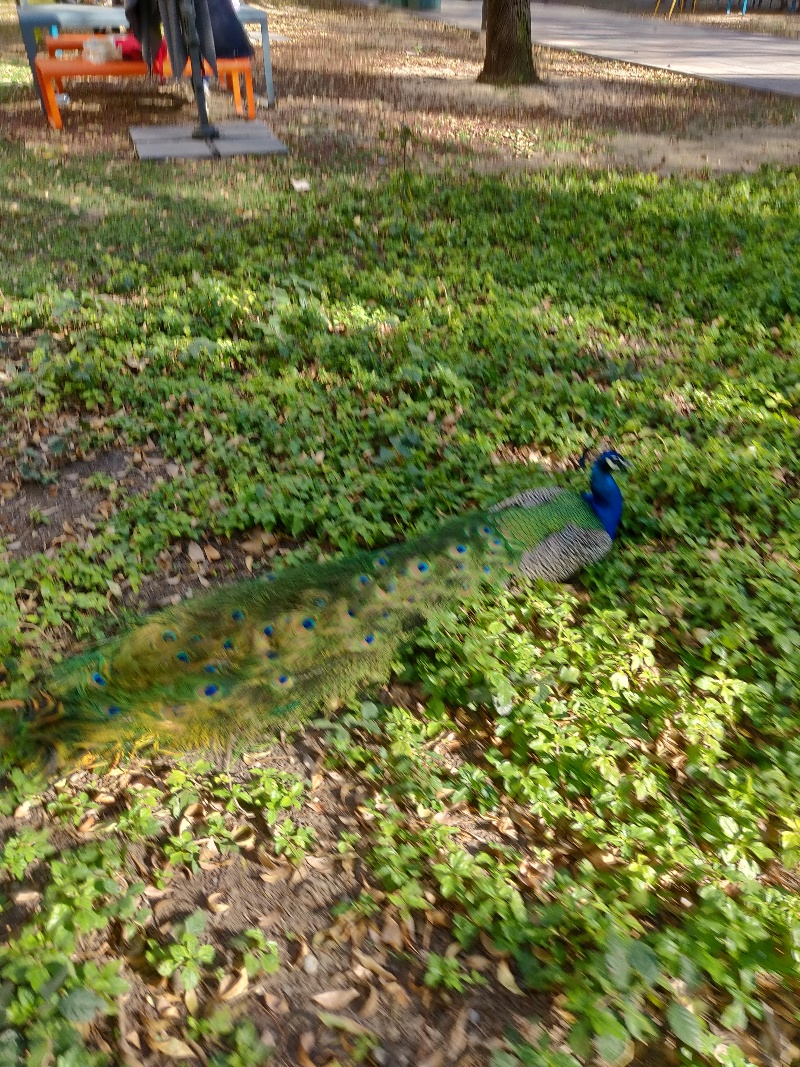pavoreal: (466, 448, 629, 592)
